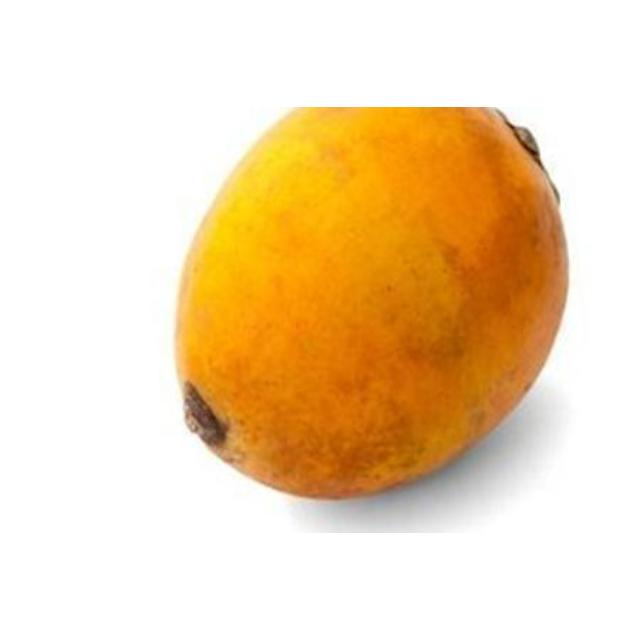good: (172, 107, 572, 502)
